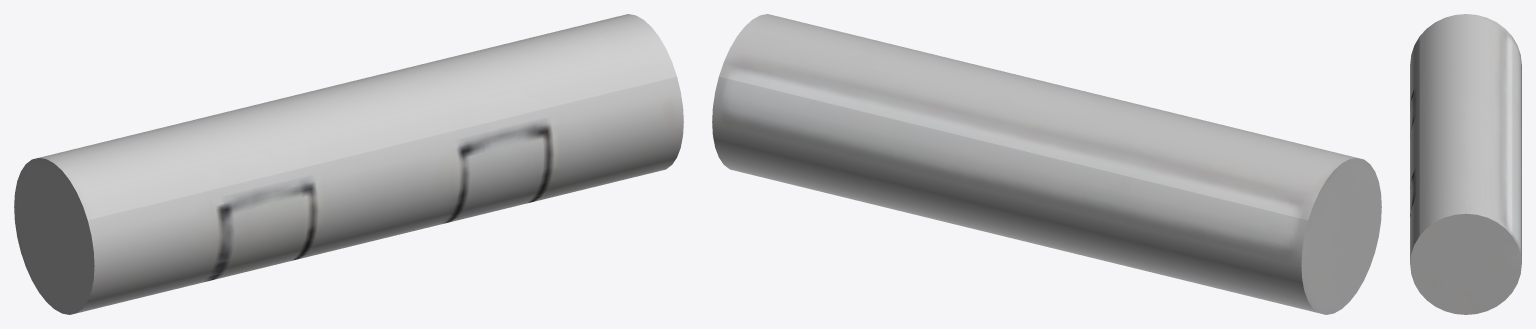
Rendered from grip__loop_bar.glb.
3 views of the same model, side by side, from view 1: azimuth 30°, elevation 25°; view 2: azimuth 150°, elevation 25°; view 3: azimuth 270°, elevation 25° (orthographic). The views are drawn at different scales.
Parts seen in each view (by area): view 1: geometry_0; view 2: geometry_0; view 3: geometry_0.
Part boxes in pixels (bbox=[...]): geometry_0: bbox=[14, 14, 683, 314]; geometry_0: bbox=[712, 14, 1381, 314]; geometry_0: bbox=[1410, 14, 1521, 314].
Size of the model in its own units: 0.11 by 0.026 by 0.026.
Materials: 1 (1 with a texture image).
